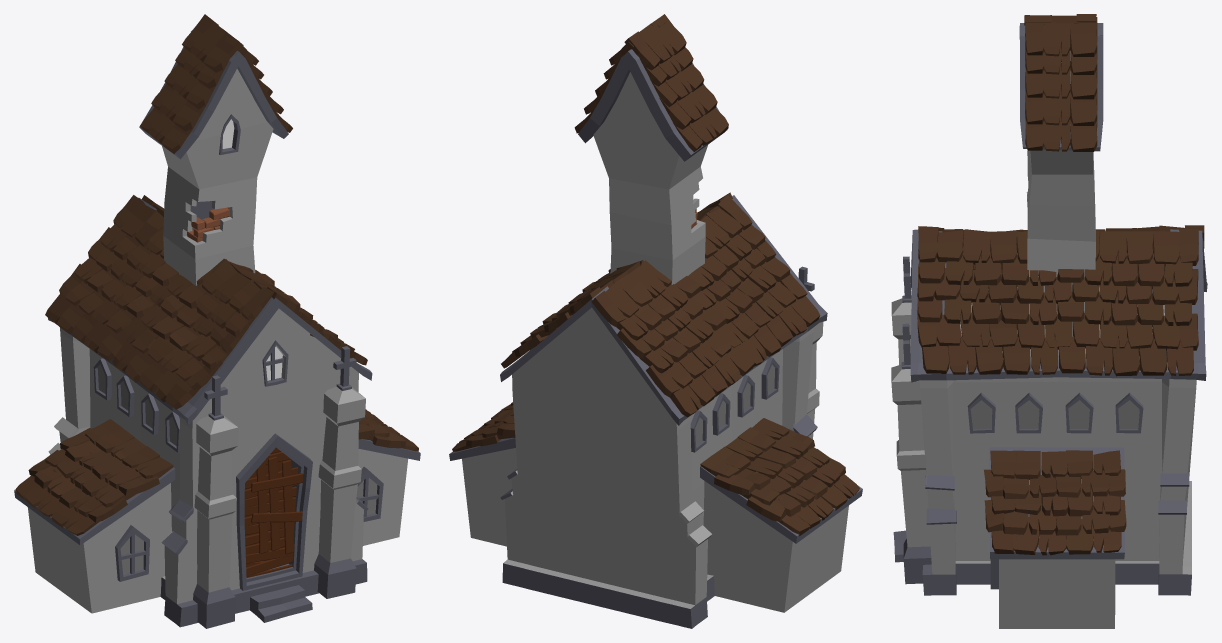
File: chapel.fbx
3 renders of one model, left to right at view 1: azimuth 30°, elevation 25°; view 2: azimuth 150°, elevation 25°; view 3: azimuth 270°, elevation 25°, orthographic. The views are drawn at different scales.
Parts seen in each view (by area): view 1: Cube.010; view 2: Cube.010; view 3: Cube.010.
Boxes of the visible parts, bbox=[...] form: Cube.010: bbox=[14, 14, 420, 628]; Cube.010: bbox=[449, 14, 862, 628]; Cube.010: bbox=[891, 14, 1207, 628].
Bounding box in the file's own units: 522 × 757 × 398.
